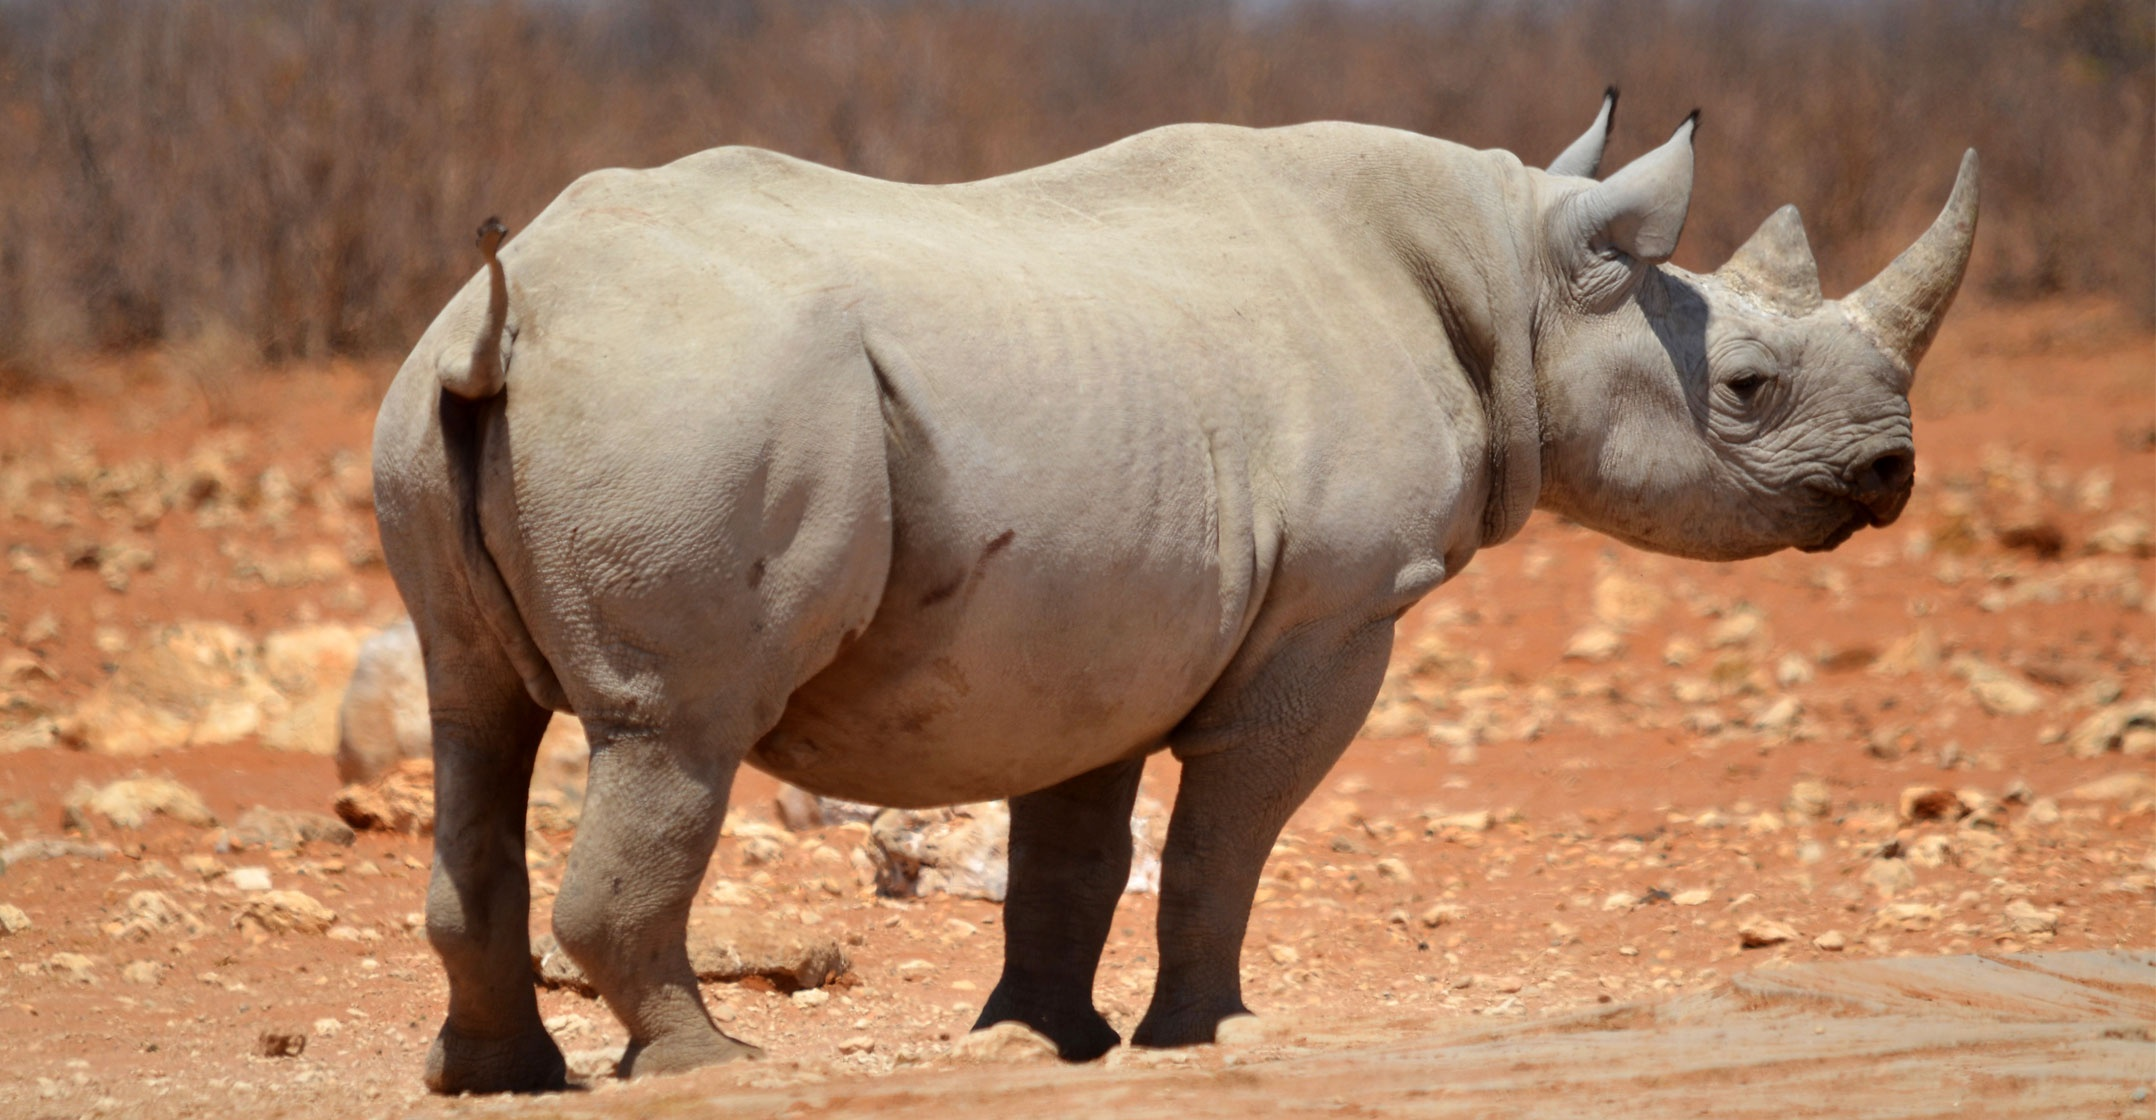rhino: (366, 91, 1983, 1090)
